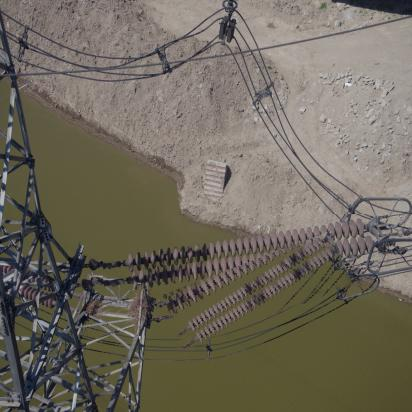insulator: (104, 216, 380, 290), (166, 246, 351, 335)
